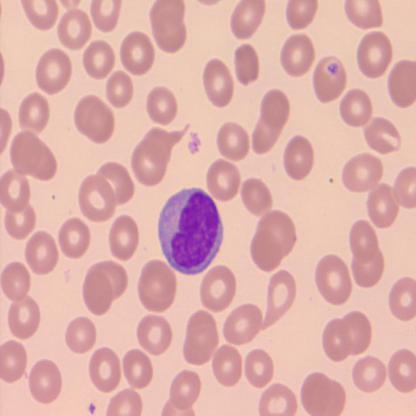Monocyte: (157, 186, 224, 274)
